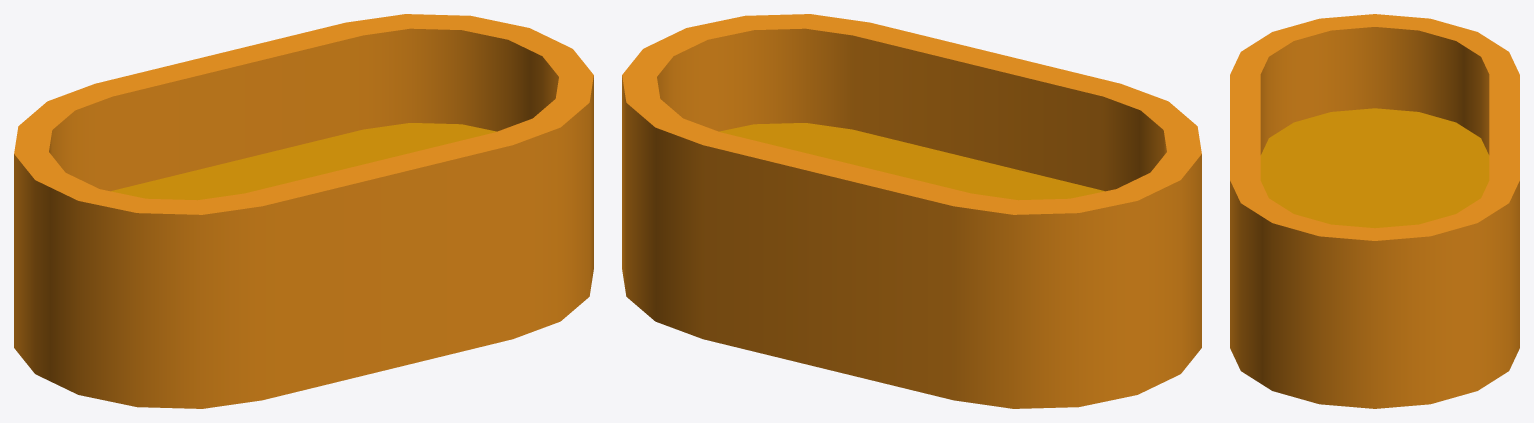
Rendered from viperHole.fbx.
3 views of the same model, side by side, from view 1: azimuth 30°, elevation 25°; view 2: azimuth 150°, elevation 25°; view 3: azimuth 270°, elevation 25° (orthographic). The views are drawn at different scales.
Parts seen in each view (by area): view 1: Tube001; view 2: Tube001; view 3: Tube001.
Part boxes in pixels (bbox=[...]): Tube001: bbox=[14, 14, 593, 408]; Tube001: bbox=[622, 14, 1201, 408]; Tube001: bbox=[1230, 14, 1519, 408].
Size of the model in its own units: 105 by 36.09 by 56.42.
